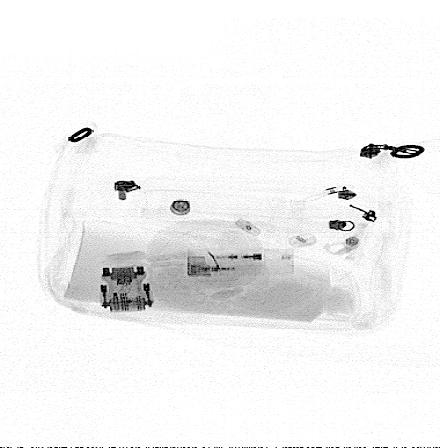Lighter: (188, 248, 295, 276)
